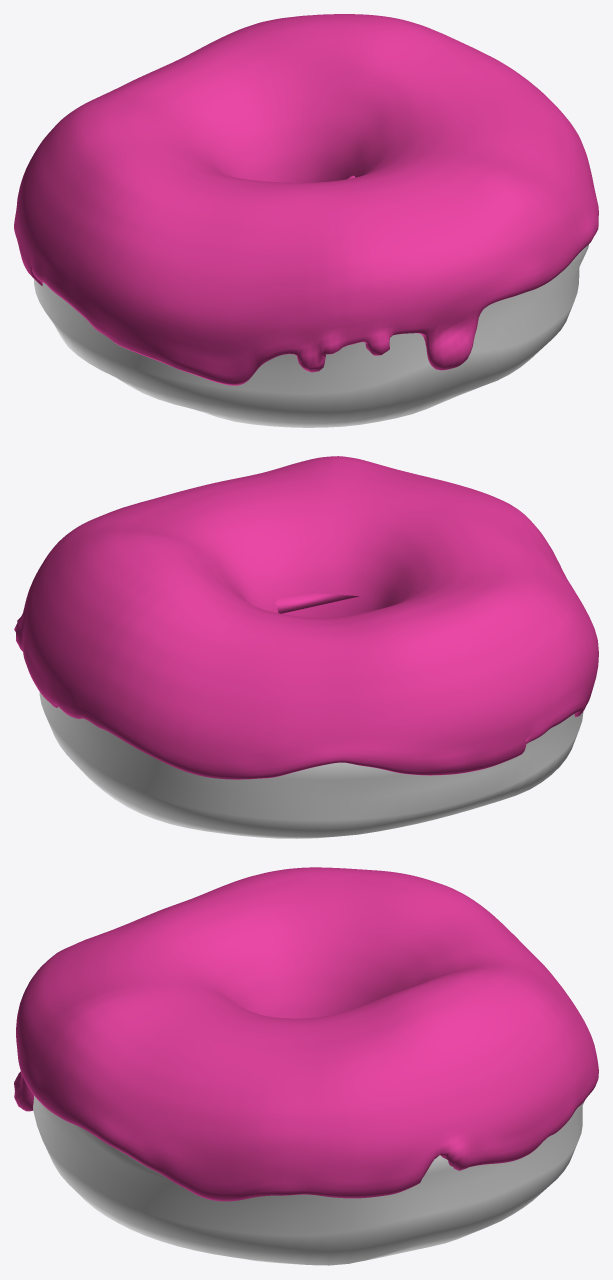
File: donut.glb
3 renders of one model, top to bottom at view 1: azimuth 30°, elevation 25°; view 2: azimuth 150°, elevation 25°; view 3: azimuth 270°, elevation 25°, orthographic.
Visible parts, largest first — view 1: Icing, Donut; view 2: Icing, Donut; view 3: Icing, Donut.
Part boxes in pixels (left/top/right/bottom): Icing: left=14, top=14, right=598, bottom=385; Donut: left=34, top=244, right=588, bottom=427; Icing: left=14, top=456, right=598, bottom=779; Donut: left=39, top=692, right=583, bottom=838; Icing: left=14, top=867, right=598, bottom=1201; Donut: left=33, top=1095, right=584, bottom=1265.
Size of what is drawn, in the model's own units: 32.2 by 14.22 by 31.74.
